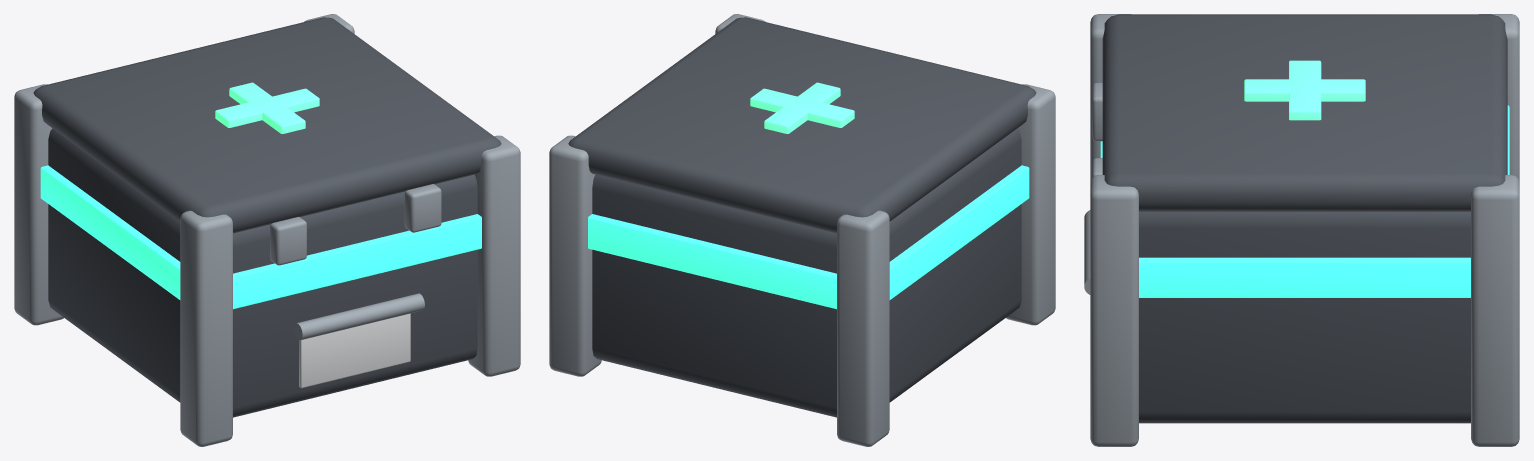
Rendered from crate_bonus.glb.
3 views of the same model, side by side, from view 1: azimuth 30°, elevation 25°; view 2: azimuth 150°, elevation 25°; view 3: azimuth 270°, elevation 25° (orthographic). The views are drawn at different scales.
Parts seen in each view (by area): view 1: Cube, case, Cube.005, Cube.001, Cube.003, Cube.002, Cube.008, Cylinder, Cube.009, Cube.010, Cube.007, Cube.006; view 2: Cube, case, Cube.005, Cube.002, Cube.004, Cube.001, Cube.009, Cube.010; view 3: Cube, case, Cube.005, Cube.004, Cube.003, Cube.010, Cube.002, Cube.009, Cube.001, Cube.006, Cylinder.
Part boxes in pixels (x1=…): Cube: x1=33, y1=17, x2=501, y2=233; case: x1=48, y1=128, x2=477, y2=417; Cube.005: x1=40, y1=165, x2=481, y2=309; Cube.001: x1=180, y1=210, x2=232, y2=446; Cube.003: x1=468, y1=135, x2=520, y2=376; Cube.002: x1=14, y1=84, x2=63, y2=325; Cube.008: x1=299, y1=313, x2=410, y2=388; Cylinder: x1=293, y1=293, x2=424, y2=340; Cube.009: x1=215, y1=88, x2=319, y2=127; Cube.010: x1=229, y1=82, x2=305, y2=133; Cube.007: x1=404, y1=184, x2=441, y2=232; Cube.006: x1=270, y1=217, x2=306, y2=265; Cube: x1=568, y1=17, x2=1036, y2=233; case: x1=592, y1=128, x2=1021, y2=417; Cube.005: x1=588, y1=165, x2=1029, y2=309; Cube.002: x1=837, y1=210, x2=889, y2=446; Cube.004: x1=549, y1=135, x2=601, y2=376; Cube.001: x1=1006, y1=84, x2=1055, y2=325; Cube.009: x1=750, y1=88, x2=854, y2=127; Cube.010: x1=764, y1=82, x2=840, y2=133; Cube: x1=1102, y1=14, x2=1507, y2=211; case: x1=1139, y1=211, x2=1470, y2=423; Cube.005: x1=1100, y1=105, x2=1509, y2=297; Cube.004: x1=1471, y1=175, x2=1519, y2=446; Cube.003: x1=1090, y1=175, x2=1138, y2=446; Cube.010: x1=1244, y1=79, x2=1365, y2=101; Cube.002: x1=1479, y1=14, x2=1519, y2=181; Cube.009: x1=1289, y1=60, x2=1321, y2=120; Cube.001: x1=1090, y1=14, x2=1131, y2=182; Cube.006: x1=1092, y1=83, x2=1102, y2=141; Cylinder: x1=1084, y1=210, x2=1090, y2=294.
Bounding box in the file's own units: 1.06 × 0.745 × 1.07.
